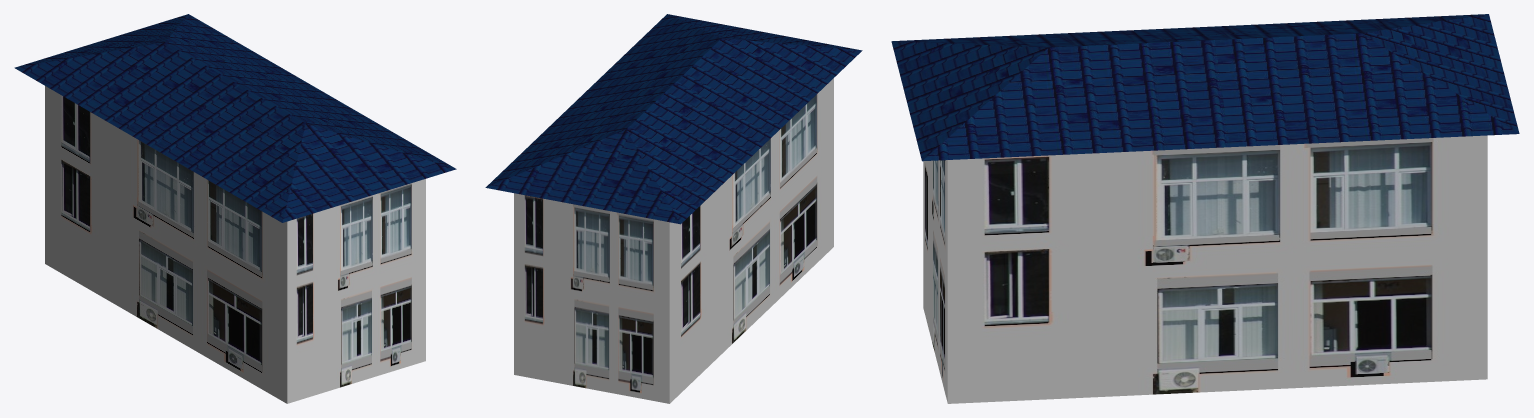
3 views of the same model, side by side, from view 1: azimuth 30°, elevation 25°; view 2: azimuth 150°, elevation 25°; view 3: azimuth 270°, elevation 25° (orthographic). The views are drawn at different scales.
Visible parts, largest first — view 1: CityEngineMaterial_9_m, CityEngineMaterial_6_m; view 2: CityEngineMaterial_9_m, CityEngineMaterial_6_m; view 3: CityEngineMaterial_9_m, CityEngineMaterial_6_m.
Boxes of the visible parts, x1=… form: CityEngineMaterial_9_m: x1=45, y1=86, x2=425, y2=403; CityEngineMaterial_6_m: x1=14, y1=14, x2=456, y2=222; CityEngineMaterial_9_m: x1=514, y1=78, x2=833, y2=403; CityEngineMaterial_6_m: x1=485, y1=14, x2=862, y2=224; CityEngineMaterial_9_m: x1=923, y1=135, x2=1487, y2=403; CityEngineMaterial_6_m: x1=891, y1=14, x2=1519, y2=161.
Bounding box in the file's own units: 11.24 × 10.8 × 20.27.
